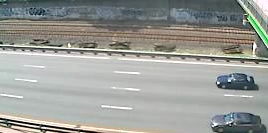car: (208, 108, 266, 133), (212, 71, 259, 93)
